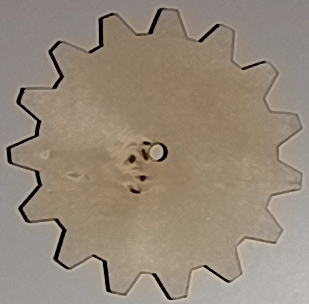Points: (126, 153, 137, 165), (140, 149, 150, 162), (128, 186, 142, 195), (136, 173, 148, 182), (141, 139, 153, 147)
